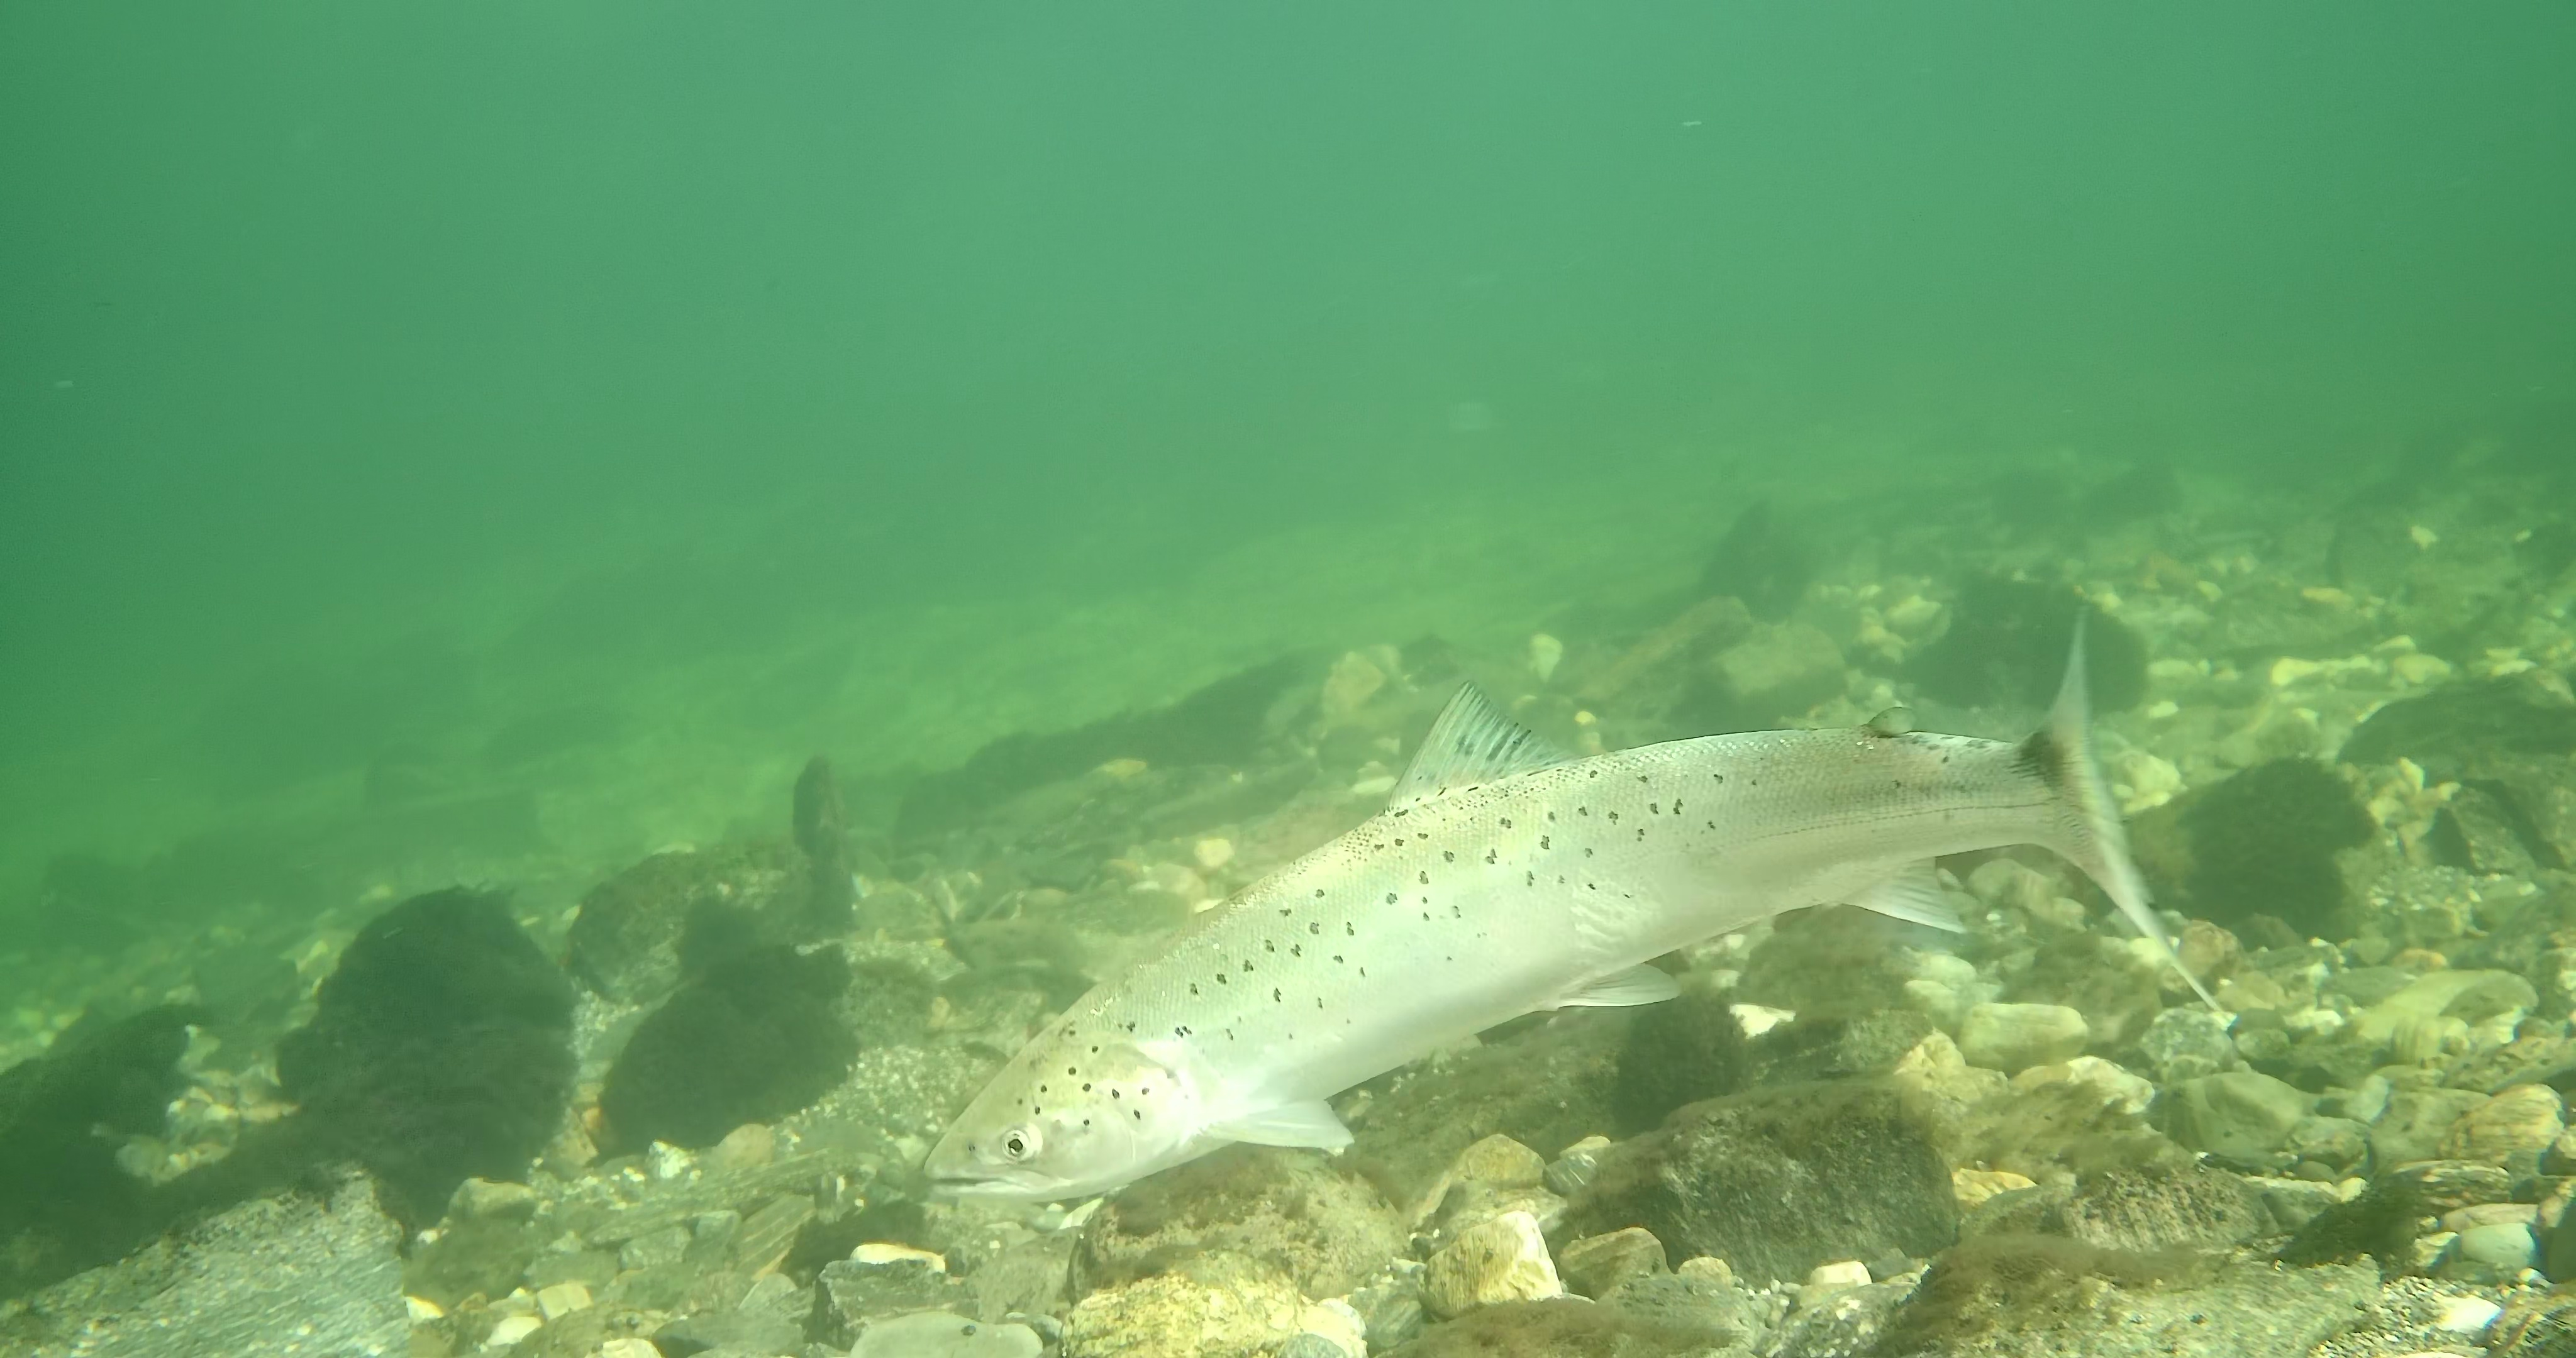salmon: (918, 613, 2227, 1210)
